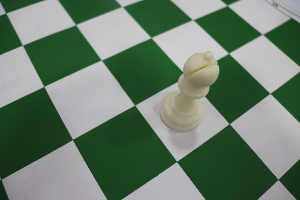white_bishop: (152, 31, 228, 140)
